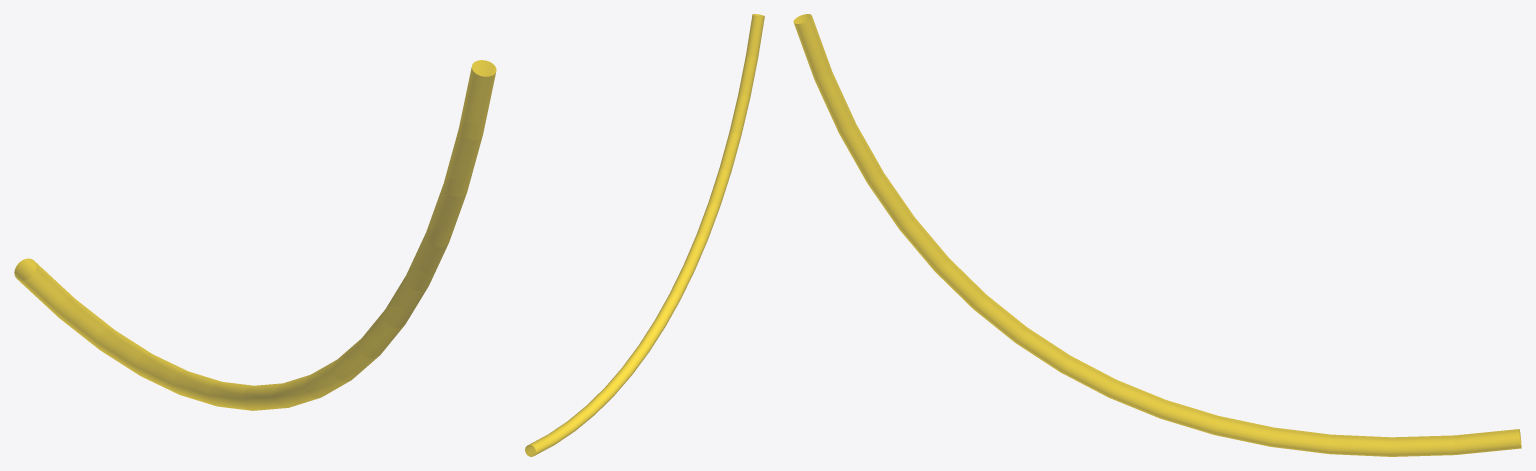
Rendered from Event_75125125_track_20.fbx.
The picture shows the model from 3 angles, left to right: view 1: azimuth 30°, elevation 25°; view 2: azimuth 150°, elevation 25°; view 3: azimuth 270°, elevation 25°; orthographic projection. The views are drawn at different scales.
Visible parts, largest first — view 1: Model; view 2: Model; view 3: Model.
Part boxes in pixels (x1,y1,x2,y2): Model: (14, 60, 496, 410); Model: (525, 14, 764, 456); Model: (793, 14, 1521, 456).
Bounding box in the file's own units: 0.0424 × 0.9837 × 1.47.
